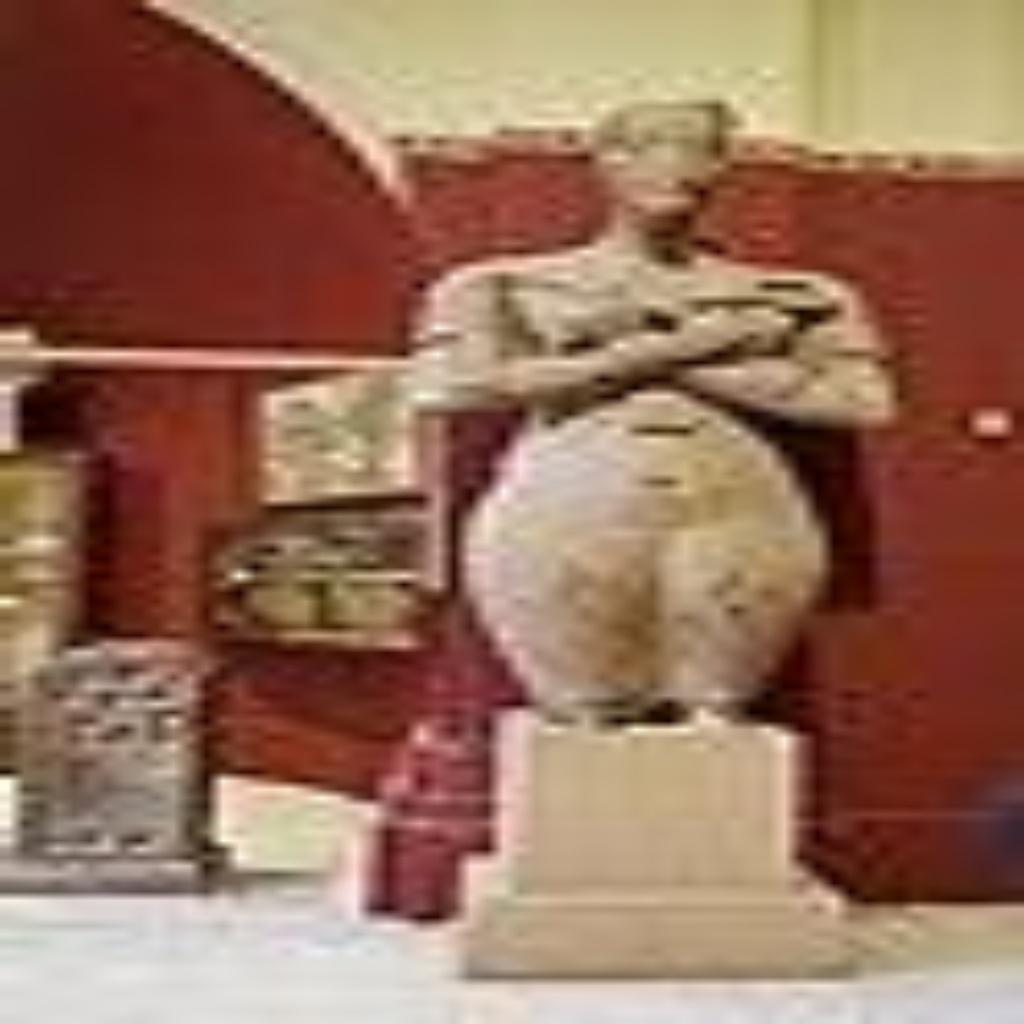Akhenaten: (394, 75, 930, 744)
